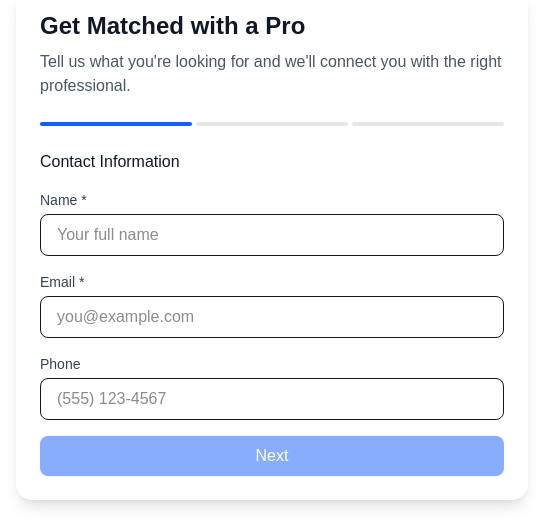
GetMatchedForm › Step Navigation › navigates to step 3 from step 2
This screenshot has width=545, height=526.
Go to step 2
Type "John Doe" into the field with placeholder "Your full name".
click(272, 235); type("John Doe")  # box left=40, top=214, right=504, bottom=256
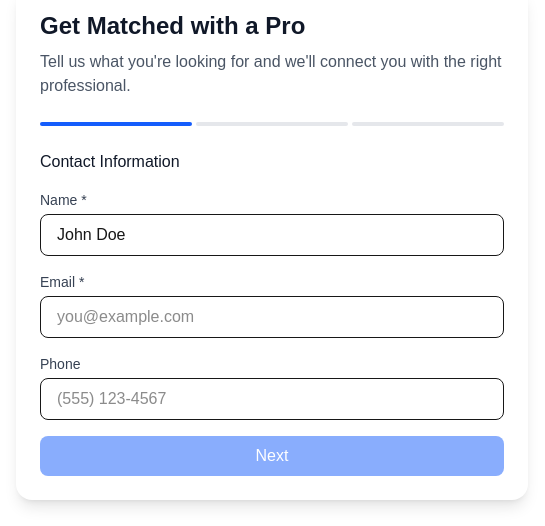
Type "john@example.com" into the field with placeholder "you@example.com".
click(272, 317); type("john@example.com")  # box left=40, top=296, right=504, bottom=338
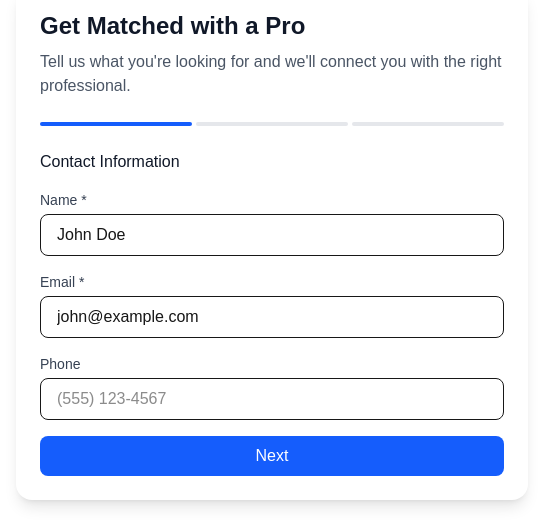
Click the button "Next".
click(272, 456)  # box left=40, top=436, right=504, bottom=476
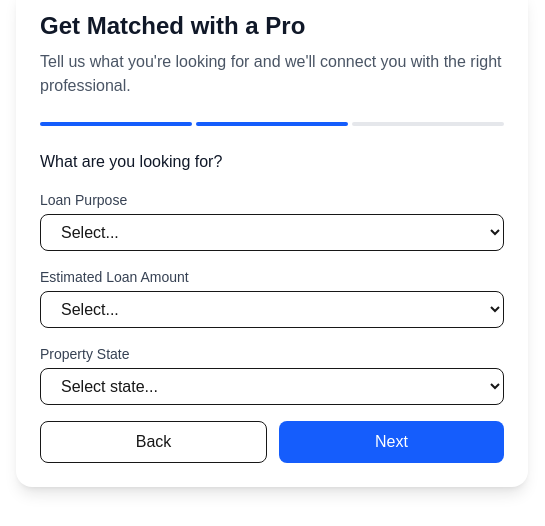
Go to step 3
Click the button "Next".
click(392, 442)  # box left=279, top=421, right=504, bottom=463
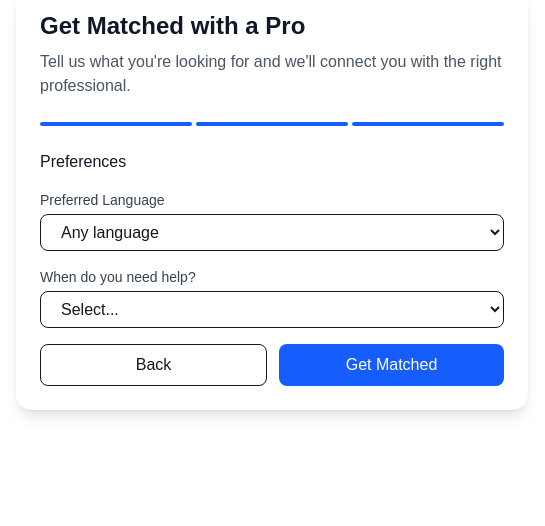
Expected: the heading "Preferences" is shown, left=40, top=153, right=126, bottom=170
